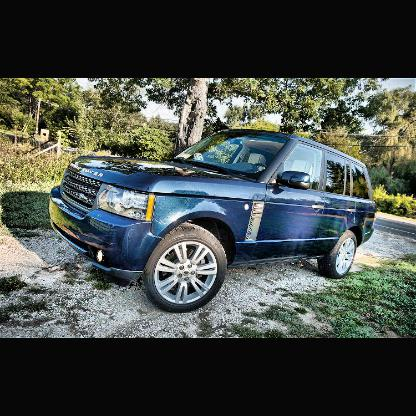Land Rover Range Rover SUV 2012: (48, 128, 381, 313)
